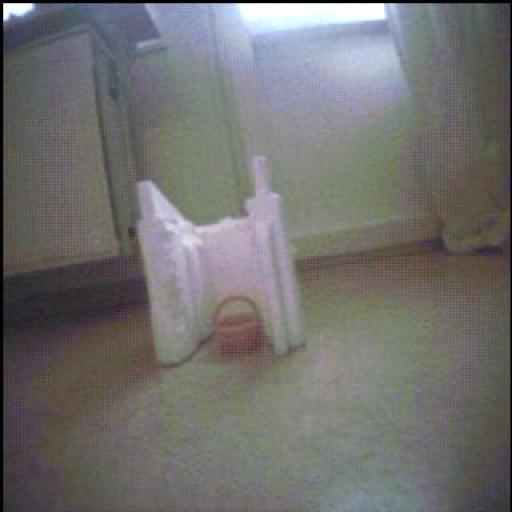Basket: (214, 297, 263, 356)
